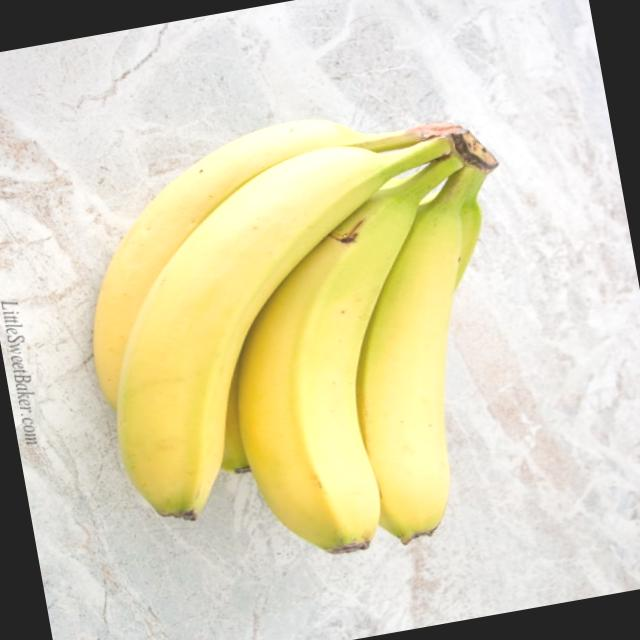banana: (54, 84, 564, 596)
